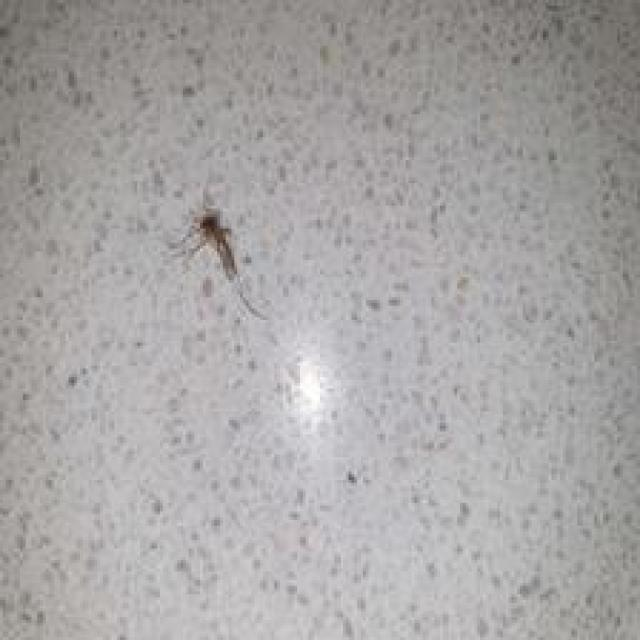Culex: (167, 190, 270, 321)
